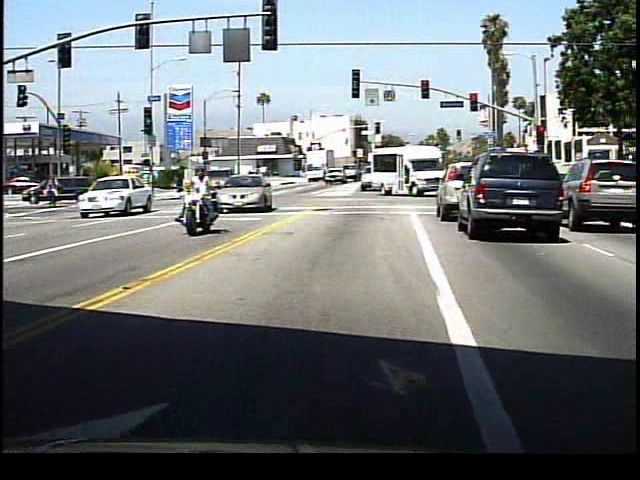person: (185, 166, 226, 233)
